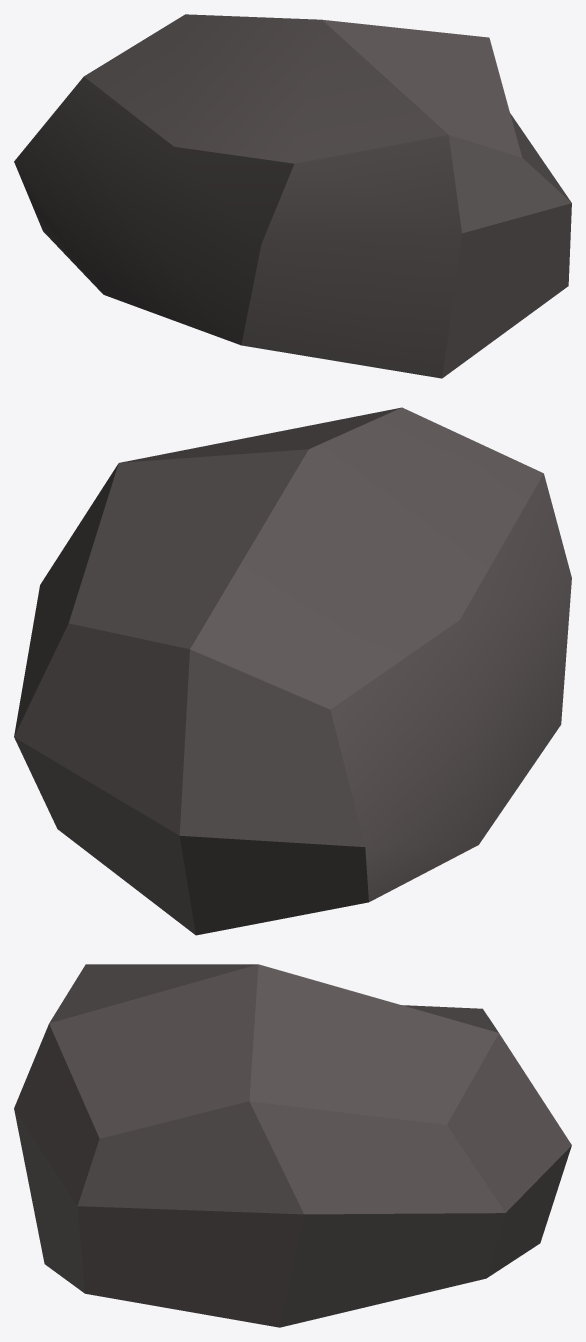
The model's file is PedraPequena2.fbx.
3 renders of one model, top to bottom at view 1: azimuth 30°, elevation 25°; view 2: azimuth 150°, elevation 25°; view 3: azimuth 270°, elevation 25°, orthographic. The views are drawn at different scales.
Visible parts, largest first — view 1: PedraMenor2; view 2: PedraMenor2; view 3: PedraMenor2.
Part boxes in pixels (x1,y1,x2,y2): PedraMenor2: [14, 14, 571, 378]; PedraMenor2: [14, 407, 571, 935]; PedraMenor2: [14, 964, 571, 1327].
Bounding box in the file's own units: 0.101 × 0.0831 × 0.125.
